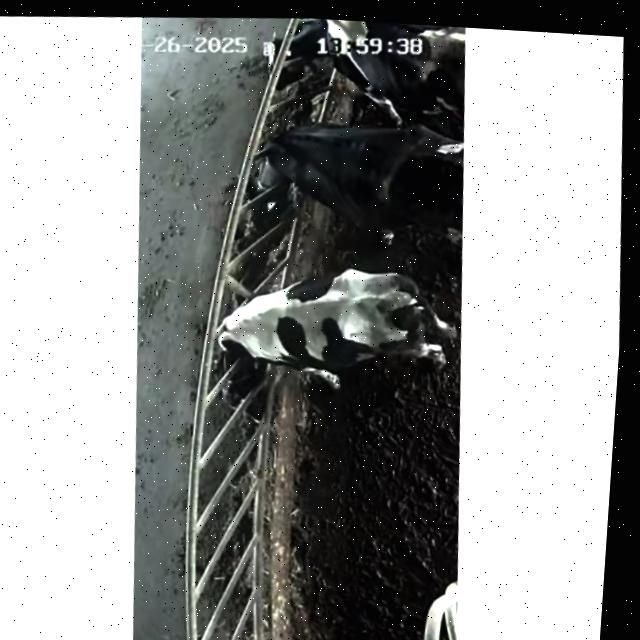eat: (183, 110, 367, 219), (160, 261, 319, 380), (234, 14, 412, 95)
